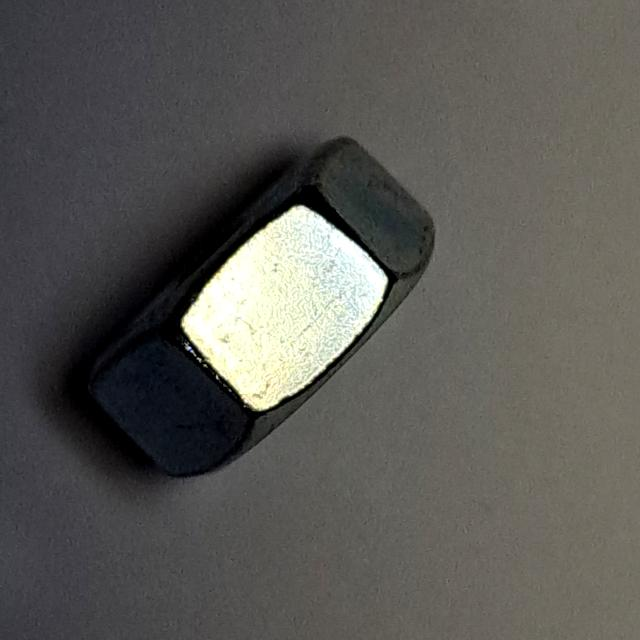Side_Excellent: (68, 113, 453, 494)
